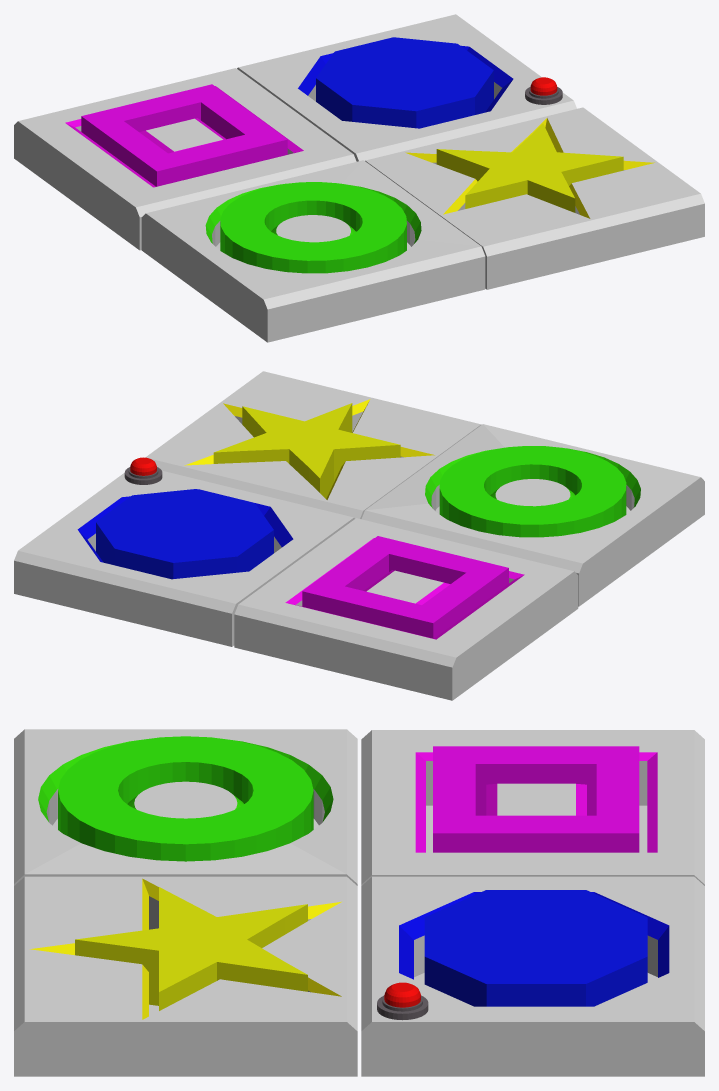
Rendered from puzzle_shapes.fbx.
3 views of the same model, one above another, from view 1: azimuth 30°, elevation 25°; view 2: azimuth 150°, elevation 25°; view 3: azimuth 270°, elevation 25° (orthographic). The views are drawn at different scales.
Parts seen in each view (by area): view 1: Star Hole, Donut Hole, Square Hole, Hecta Hole, Hecta, Donut, Square, Star, Light; view 2: Square Hole, Hecta Hole, Donut Hole, Star Hole, Hecta, Donut, Square, Star, Light; view 3: Star Hole, Hecta Hole, Square Hole, Donut Hole, Donut, Hecta, Square, Star, Light.
Part boxes in pixels (x1,y1,x2,y2): Star Hole: (365,107,704,289); Donut Hole: (141,160,485,342); Square Hole: (14,68,356,250); Hecta Hole: (237,14,576,161); Hecta: (316,37,493,128); Donut: (220,182,406,273); Square: (81,84,287,186); Star: (436,123,623,212); Light: (525,77,562,104); Square Hole: (234,518,578,700); Hecta Hole: (14,470,354,646); Donut Hole: (361,424,704,606); Star Hole: (145,371,481,518); Hecta: (96,489,273,579); Donut: (439,446,626,537); Square: (302,536,508,638); Star: (213,403,400,498); Light: (124,457,162,484); Star Hole: (14,876,357,1076); Hecta Hole: (361,876,704,1076); Square Hole: (361,730,704,885); Donut Hole: (14,729,357,885); Donut: (58,736,313,861); Hecta: (424,890,647,1006); Square: (433,746,639,852); Star: (75,887,307,1010); Light: (377,982,428,1020).
Bounding box in the file's own units: 402 × 49.46 × 402.
